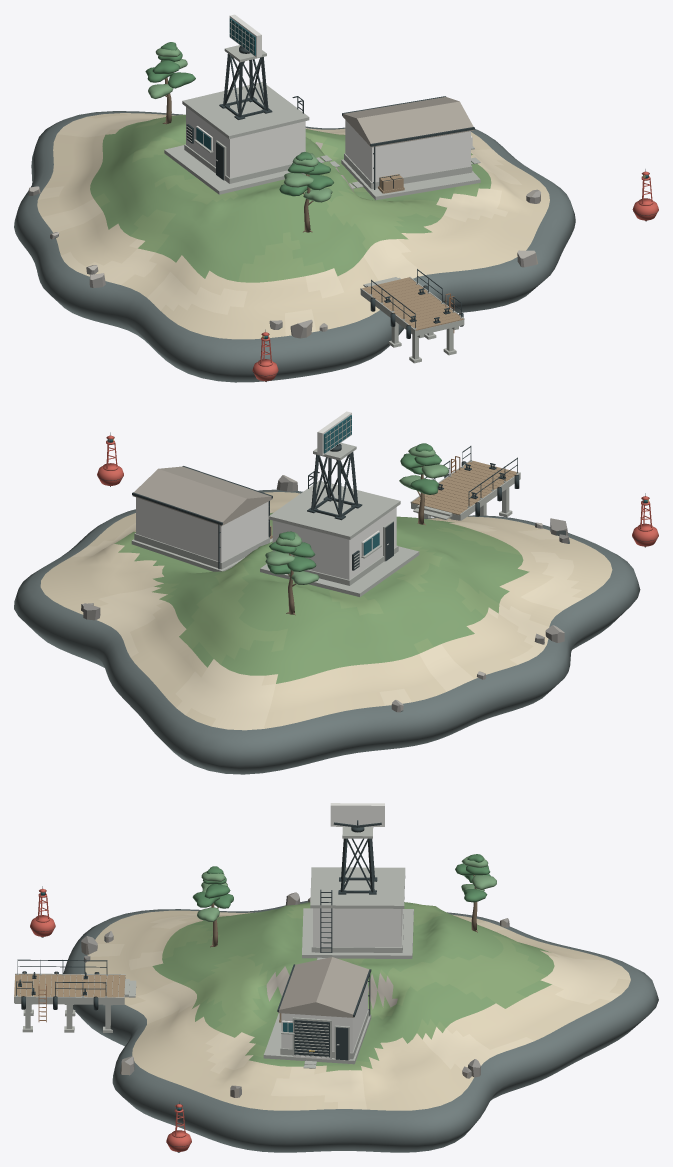
File: ENV_RadarOutpost__Seed20261002.fbx
The picture shows the model from 3 angles, top to bottom: view 1: azimuth 30°, elevation 25°; view 2: azimuth 150°, elevation 25°; view 3: azimuth 270°, elevation 25°; orthographic projection. The views are drawn at different scales.
Visible parts, largest first — view 1: TerrainShell, ENV_RadarStation_0_Visual, ENV_SupplyDepot_1_Visual, ENV_Jetty_4_Visual, ENV_CoastalPine_2_Visual, ENV_CoastalPine_3_Visual, Decor_Visual, SearchArrayHead_Visual, ENV_NavigationBuoy_5_Visual, ENV_NavigationBuoy_6_Visual; view 2: TerrainShell, ENV_RadarStation_0_Visual, ENV_SupplyDepot_1_Visual, ENV_Jetty_4_Visual, ENV_CoastalPine_3_Visual, ENV_CoastalPine_2_Visual, Decor_Visual, SearchArrayHead_Visual, ENV_NavigationBuoy_5_Visual, ENV_NavigationBuoy_6_Visual; view 3: TerrainShell, ENV_RadarStation_0_Visual, ENV_SupplyDepot_1_Visual, ENV_Jetty_4_Visual, ENV_CoastalPine_2_Visual, Decor_Visual, ENV_CoastalPine_3_Visual, SearchArrayHead_Visual, ENV_NavigationBuoy_5_Visual, ENV_NavigationBuoy_6_Visual.
Boxes of the visible parts, left/top/right/bottom form: TerrainShell: left=14, top=111, right=575, bottom=382; ENV_RadarStation_0_Visual: left=164, top=45, right=309, bottom=194; ENV_SupplyDepot_1_Visual: left=341, top=96, right=480, bottom=200; ENV_Jetty_4_Visual: left=360, top=269, right=464, bottom=363; ENV_CoastalPine_2_Visual: left=279, top=152, right=333, bottom=232; ENV_CoastalPine_3_Visual: left=145, top=42, right=195, bottom=124; Decor_Visual: left=28, top=155, right=540, bottom=338; SearchArrayHead_Visual: left=229, top=14, right=261, bottom=57; ENV_NavigationBuoy_5_Visual: left=252, top=329, right=278, bottom=381; ENV_NavigationBuoy_6_Visual: left=632, top=169, right=658, bottom=221; TerrainShell: left=14, top=489, right=640, bottom=774; ENV_RadarStation_0_Visual: left=260, top=442, right=419, bottom=596; ENV_SupplyDepot_1_Visual: left=131, top=466, right=272, bottom=571; ENV_Jetty_4_Visual: left=410, top=446, right=520, bottom=520; ENV_CoastalPine_3_Visual: left=265, top=531, right=319, bottom=615; ENV_CoastalPine_2_Visual: left=399, top=443, right=448, bottom=525; Decor_Visual: left=81, top=475, right=569, bottom=712; SearchArrayHead_Visual: left=317, top=411, right=351, bottom=455; ENV_NavigationBuoy_5_Visual: left=632, top=493, right=658, bottom=547; ENV_NavigationBuoy_6_Visual: left=97, top=432, right=123, bottom=486; TerrainShell: left=63, top=900, right=658, bottom=1152; ENV_RadarStation_0_Visual: left=302, top=827, right=413, bottom=958; ENV_SupplyDepot_1_Visual: left=263, top=957, right=371, bottom=1064; ENV_Jetty_4_Visual: left=14, top=959, right=136, bottom=1032; ENV_CoastalPine_2_Visual: left=192, top=866, right=233, bottom=947; Decor_Visual: left=81, top=892, right=509, bottom=1097; ENV_CoastalPine_3_Visual: left=455, top=854, right=496, bottom=932; SearchArrayHead_Visual: left=330, top=803, right=384, bottom=827; ENV_NavigationBuoy_5_Visual: left=30, top=886, right=55, bottom=937; ENV_NavigationBuoy_6_Visual: left=166, top=1101, right=191, bottom=1152.
Size of the model in its own units: 3238 by 1344 by 3502.
